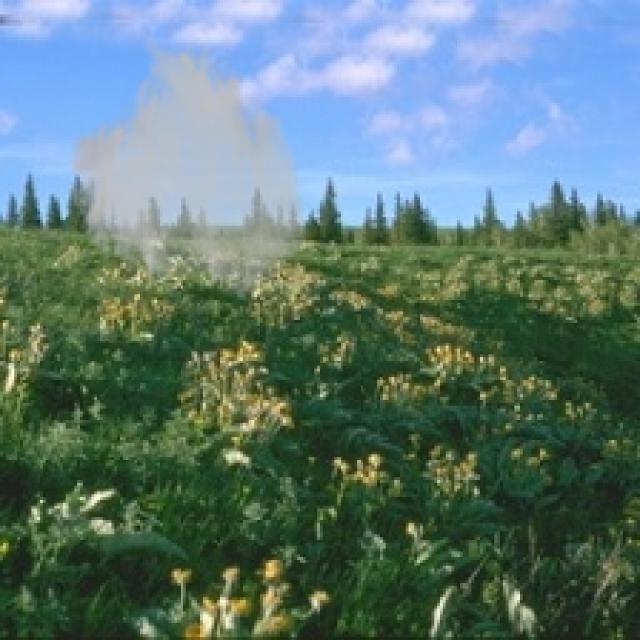Smoke: (65, 31, 308, 300)
